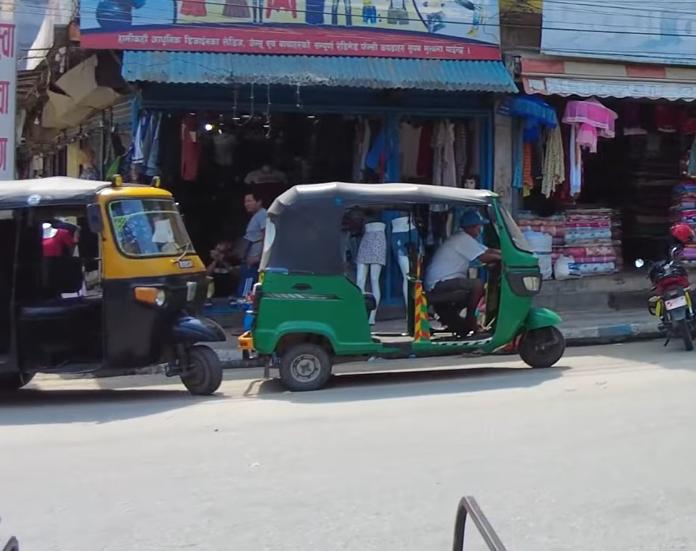auto_rickshaw: (232, 170, 562, 399), (1, 166, 226, 408)
bike: (632, 243, 696, 354)
